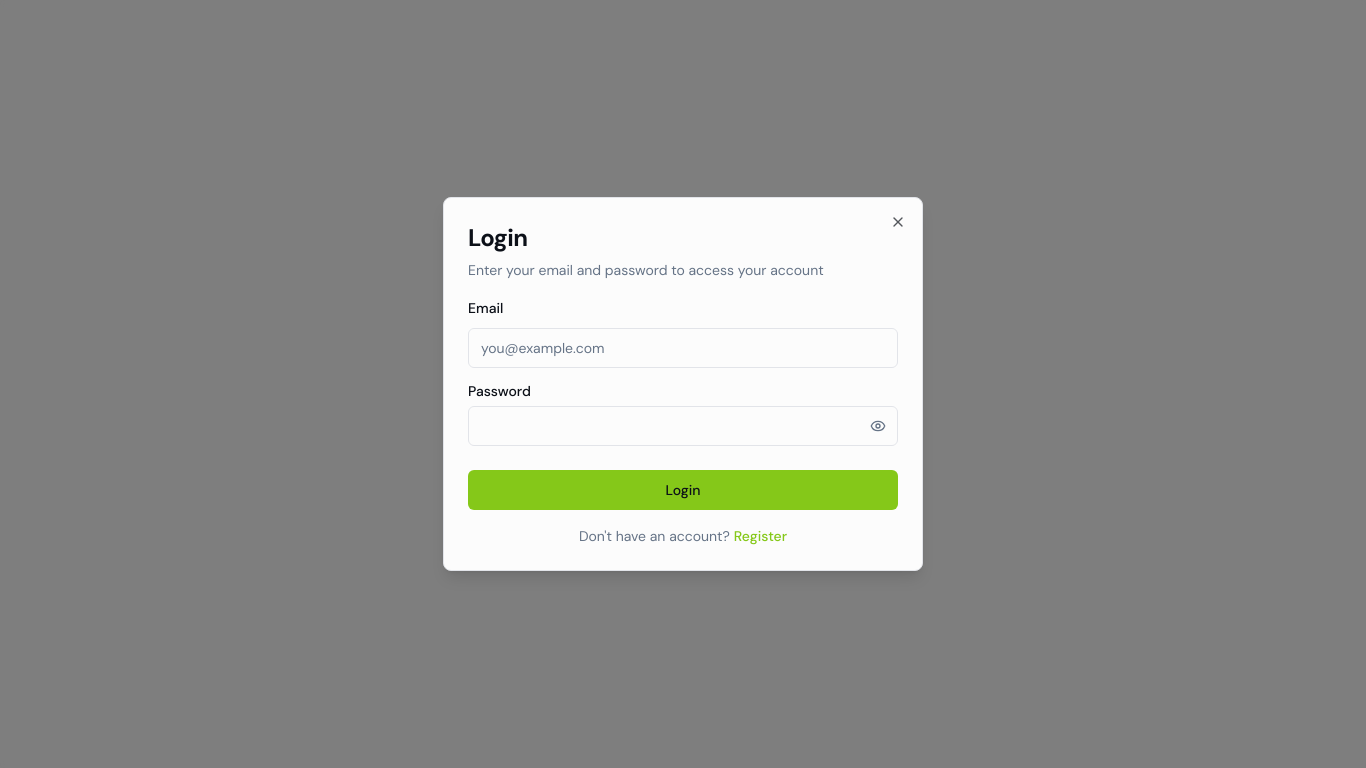
Test: credentials the server refused, in en › falls back to one generic line for a failure it cannot name
The image size is (1366, 768).
Step 1. Type "user@test.com" into the field labelled "Email" → point(683, 348), box [468,328,898,368]
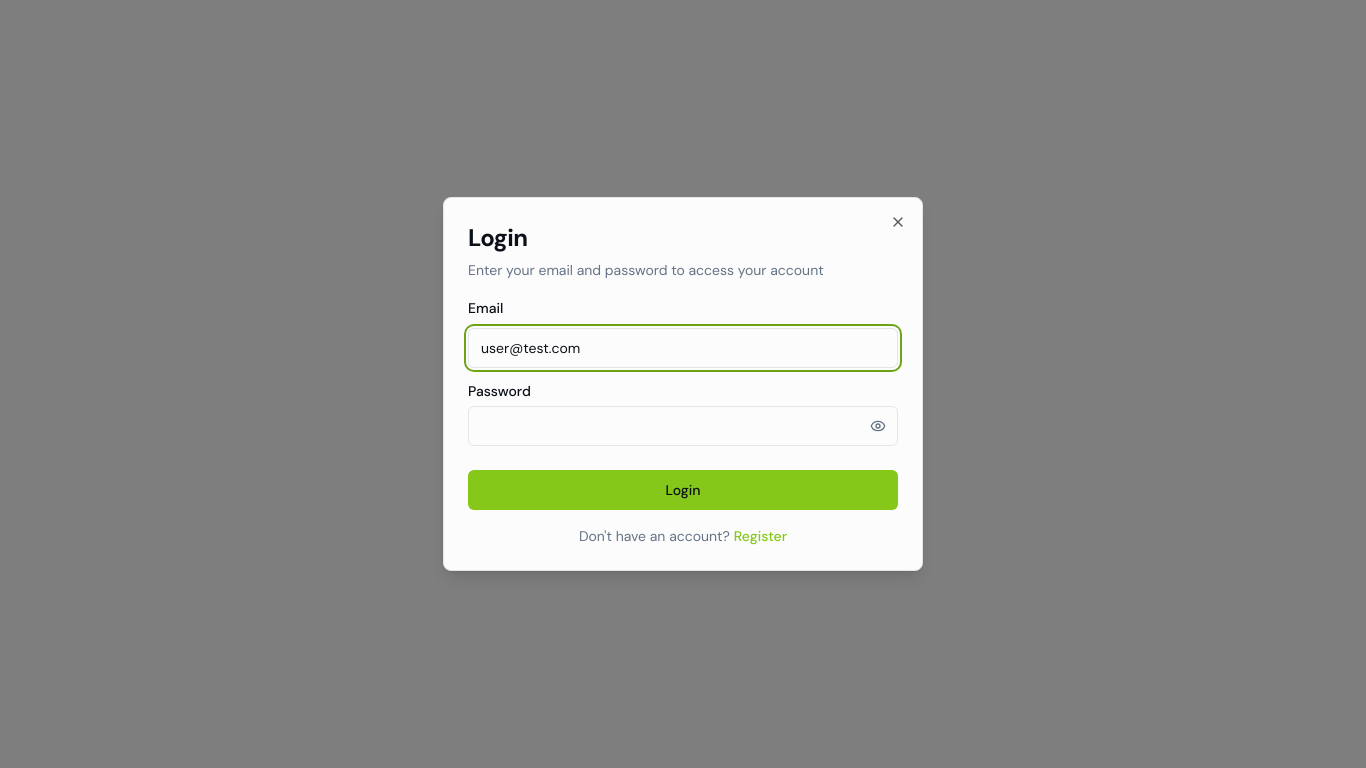
Step 2. Type "validpass1" into the password field labelled "Password" → point(683, 426), box [468,406,898,446]
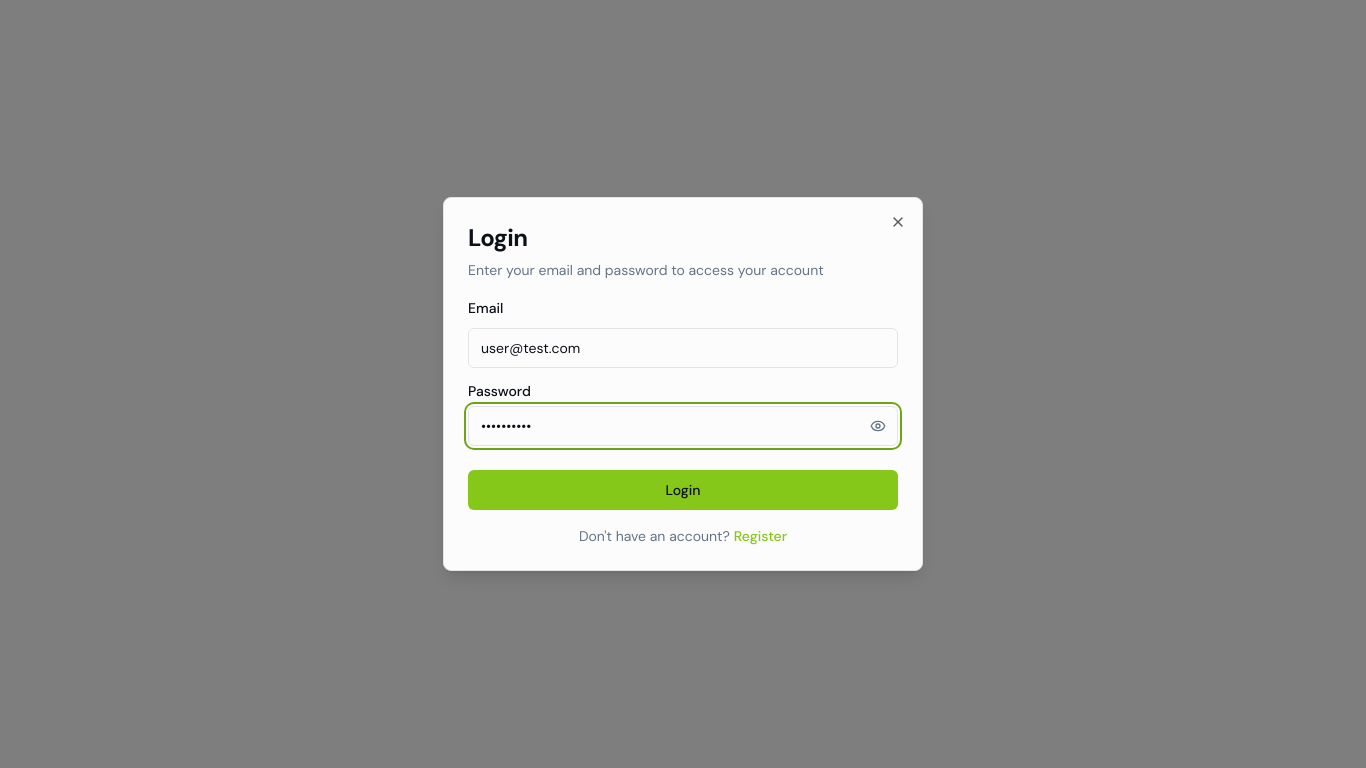
Step 3. Click the button "Login" → point(683, 490), box [468,470,898,510]
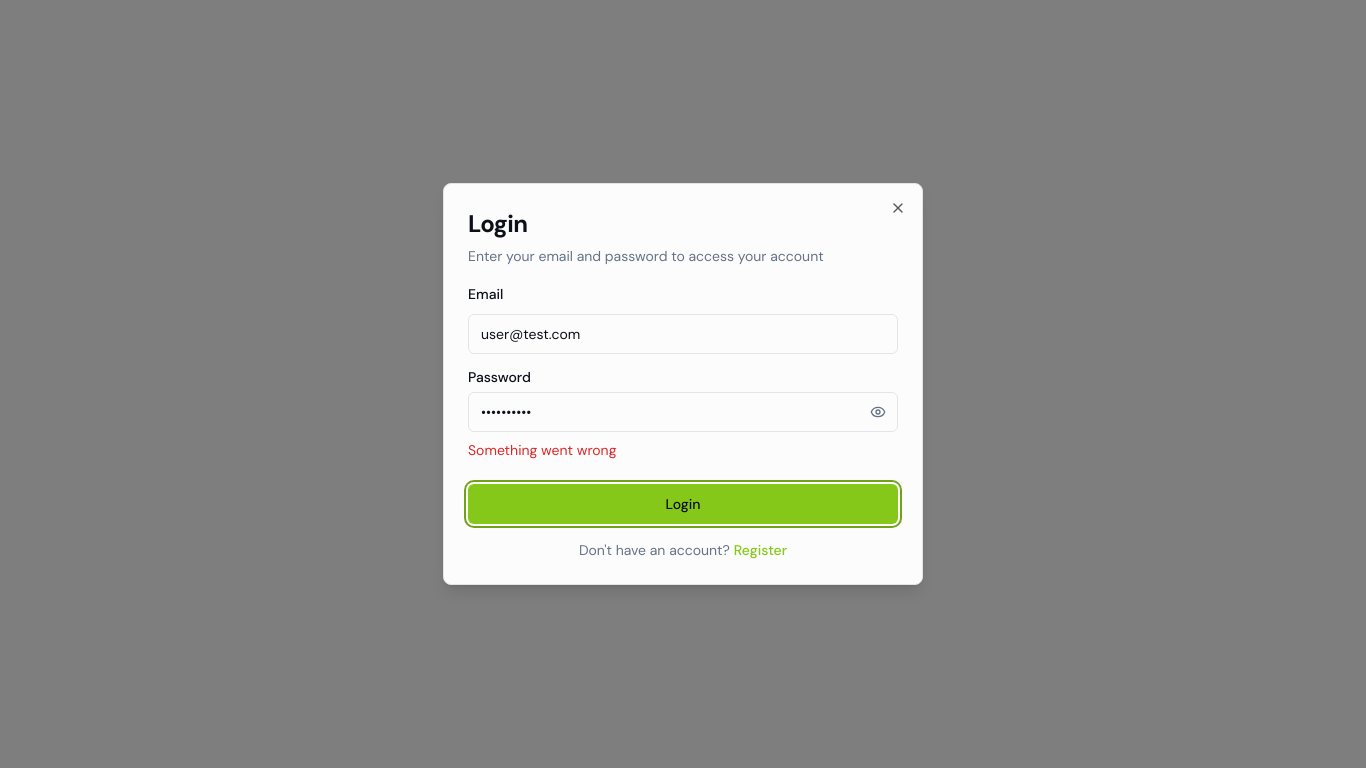
Now the text "Something went wrong" is shown, box [468,441,616,459]
